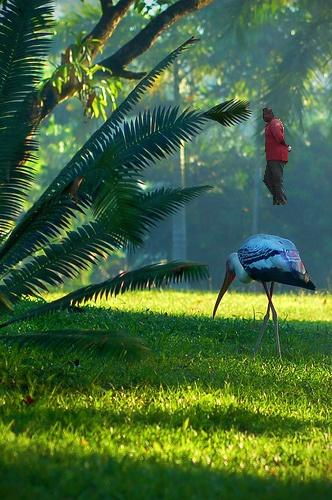tampered: (264, 108, 291, 205)
